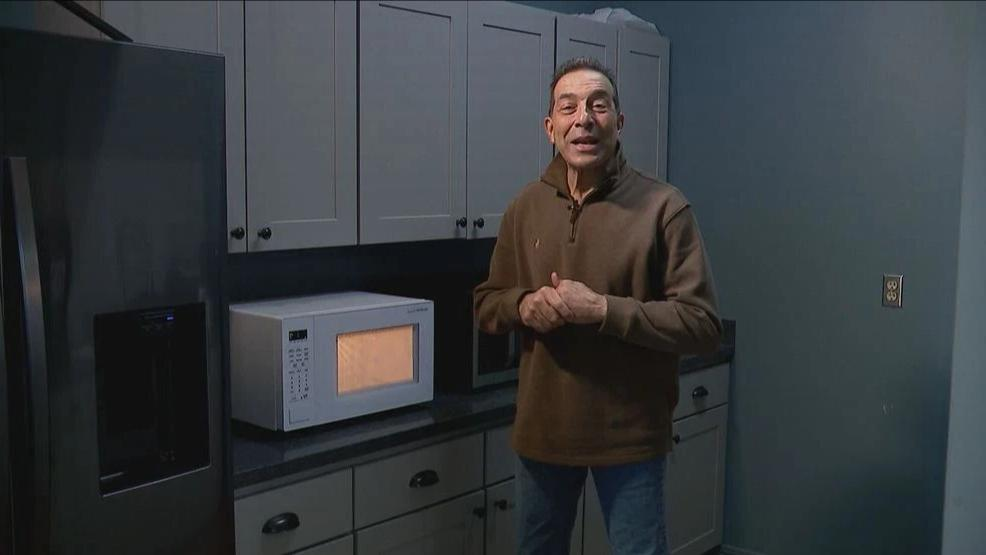controlled_fire: (323, 308, 434, 408)
